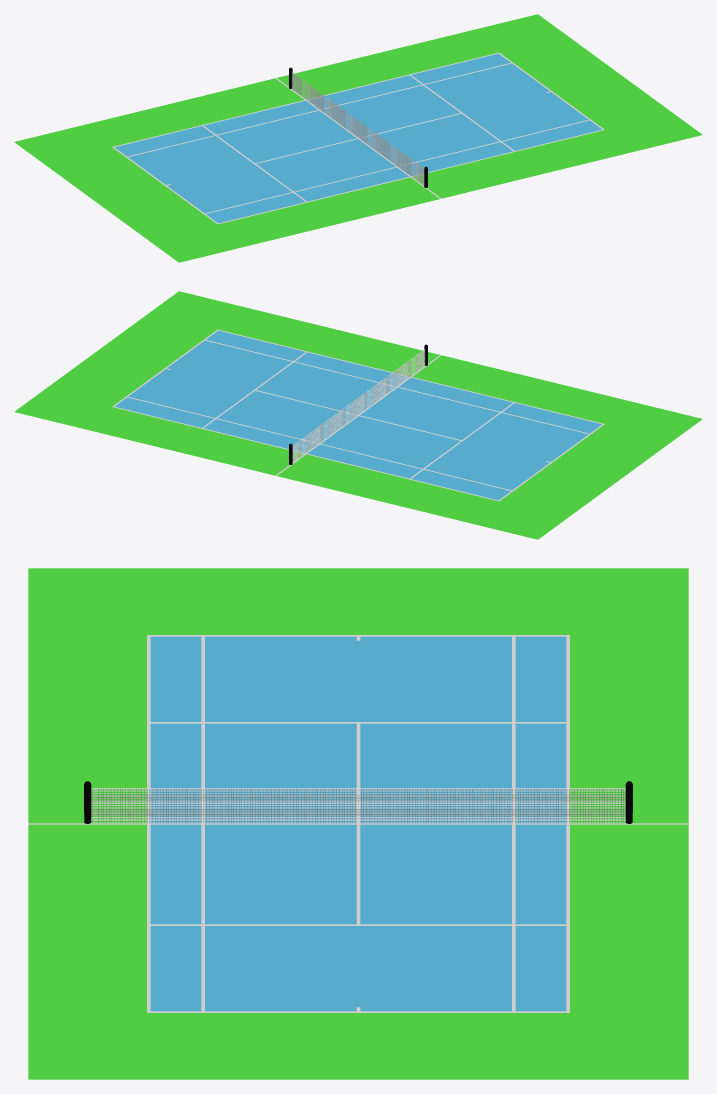
The model's file is Tennis Ground.fbx.
3 renders of one model, top to bottom at view 1: azimuth 30°, elevation 25°; view 2: azimuth 150°, elevation 25°; view 3: azimuth 270°, elevation 25°, orthographic. The views are drawn at different scales.
Visible parts, largest first — view 1: Plane, Stipes; view 2: Plane, Stipes; view 3: Plane, Stipes.
Part boxes in pixels (x1,y1,x2,y2): Plane: (14,14,702,262); Stipes: (291,72,424,185); Plane: (14,291,702,539); Stipes: (292,349,425,462); Plane: (28,568,688,1079); Stipes: (91,788,625,822).
Size of the model in its own units: 3283 by 127 by 1791.
